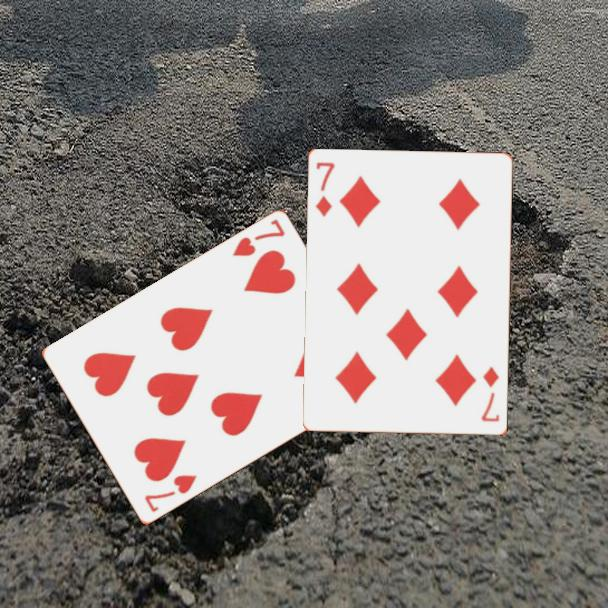d07: (478, 364, 503, 425), (313, 159, 338, 220)
h07: (141, 471, 200, 516), (229, 216, 288, 260)
